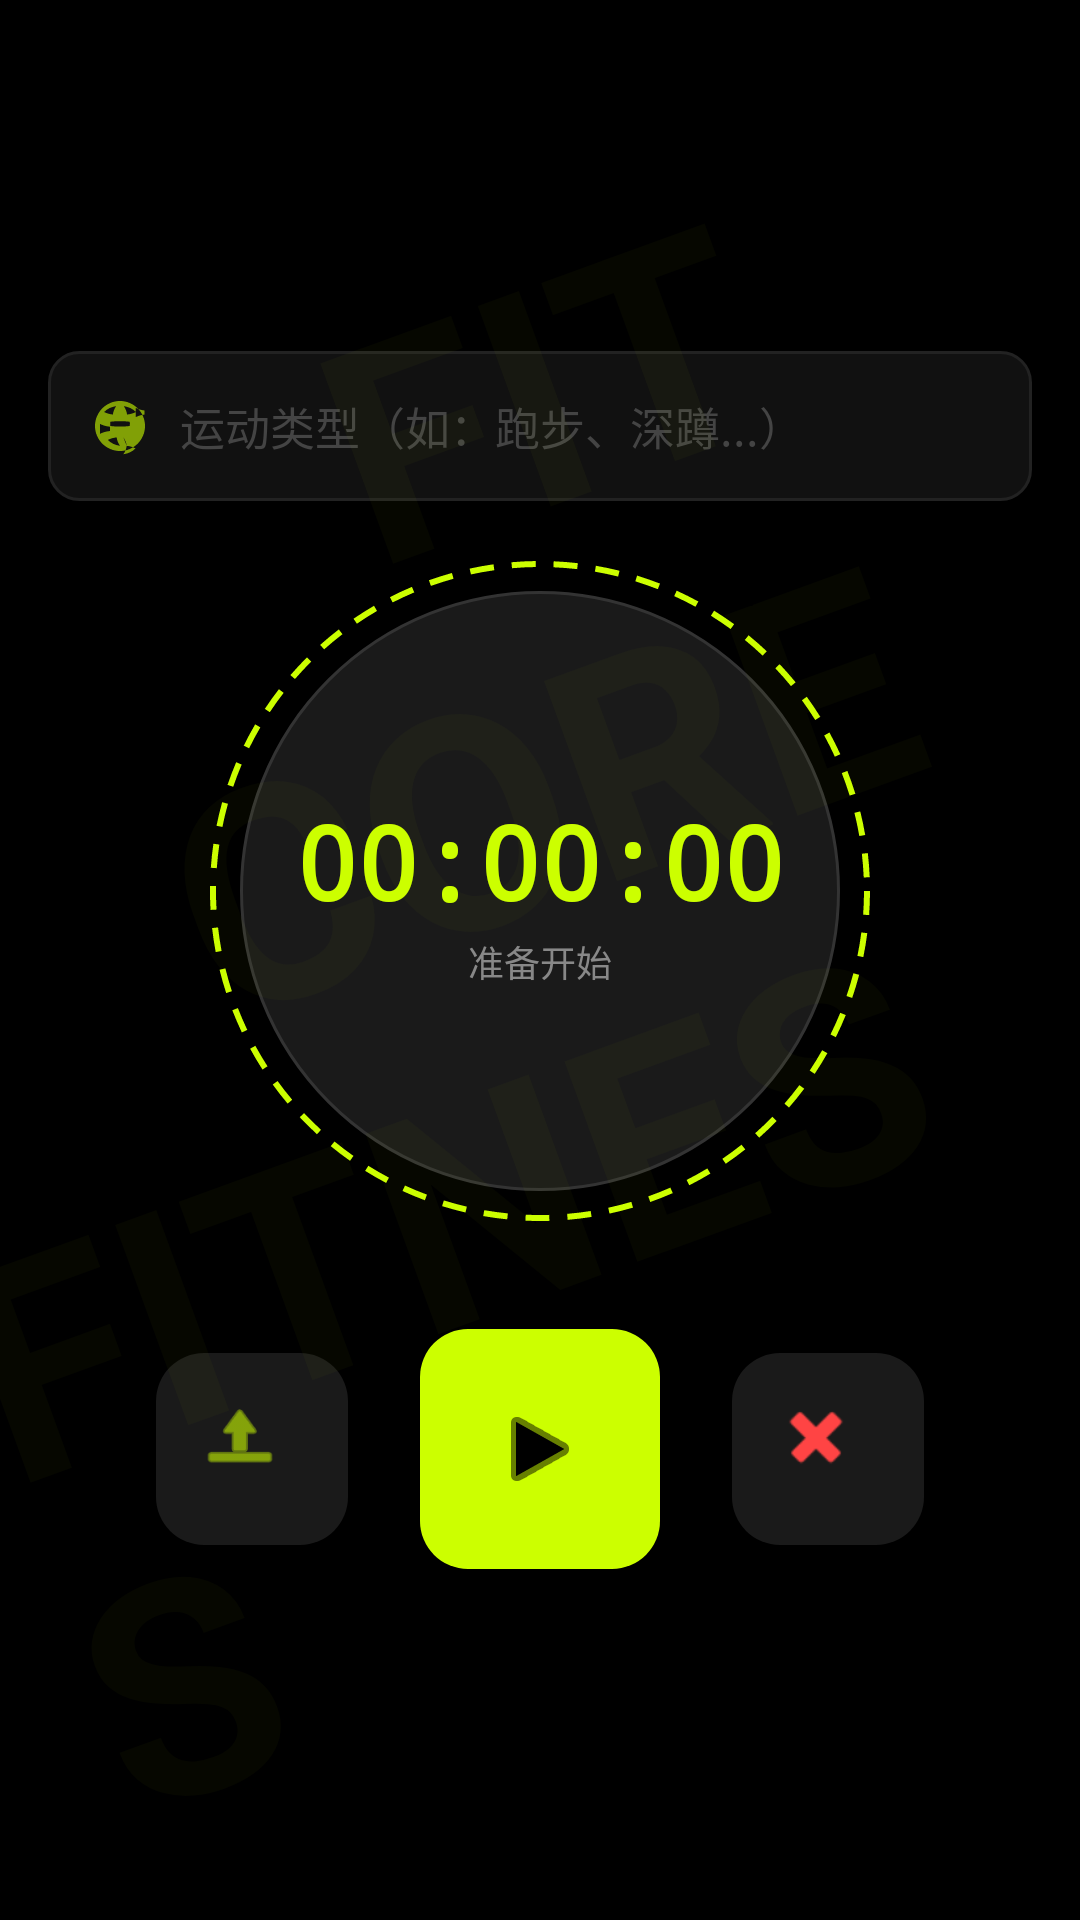

Icon click points for this 1080x1920 phone screenshot, format [x,y]:
delete: [828,1449]
play: [540,1449]
upload: [252,1449]
